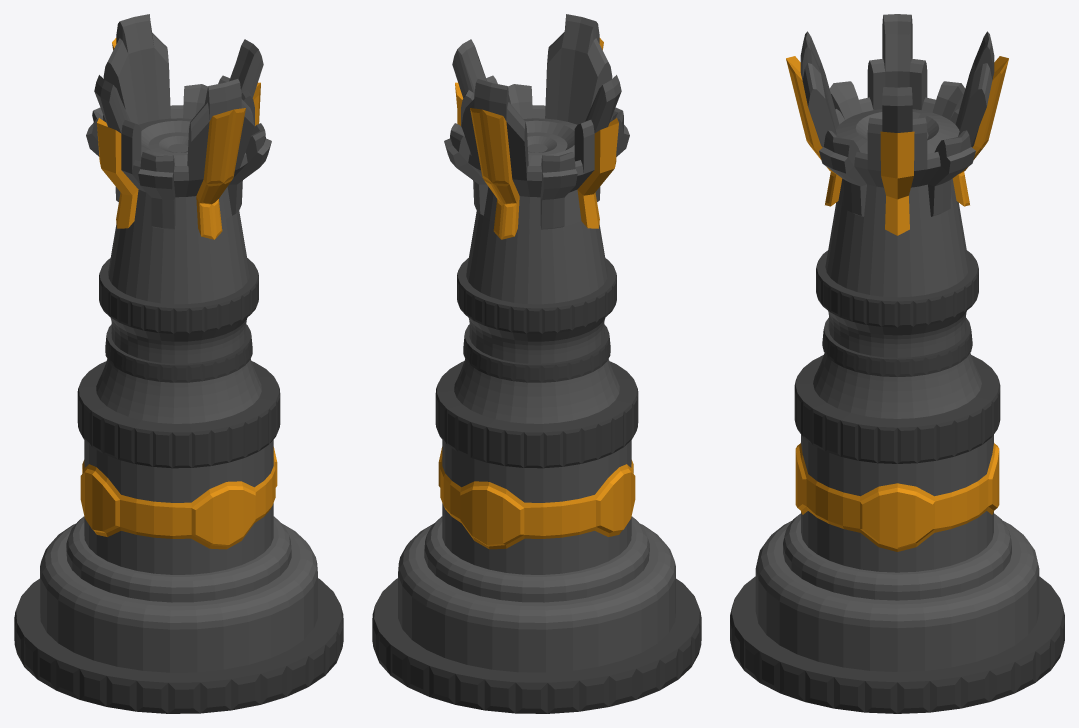
File: ProjectileTowerFix.fbx
3 views of the same model, side by side, from view 1: azimuth 30°, elevation 25°; view 2: azimuth 150°, elevation 25°; view 3: azimuth 270°, elevation 25° (orthographic).
Parts seen in each view (by area): view 1: PtojectileTowerUpgrade1(Fix); view 2: PtojectileTowerUpgrade1(Fix); view 3: PtojectileTowerUpgrade1(Fix).
Boxes of the visible parts, left/top/right/bottom form: PtojectileTowerUpgrade1(Fix): left=14, top=14, right=343, bottom=713; PtojectileTowerUpgrade1(Fix): left=372, top=14, right=701, bottom=713; PtojectileTowerUpgrade1(Fix): left=730, top=14, right=1064, bottom=713.
Size of the model in its own units: 347 by 691 by 347.
